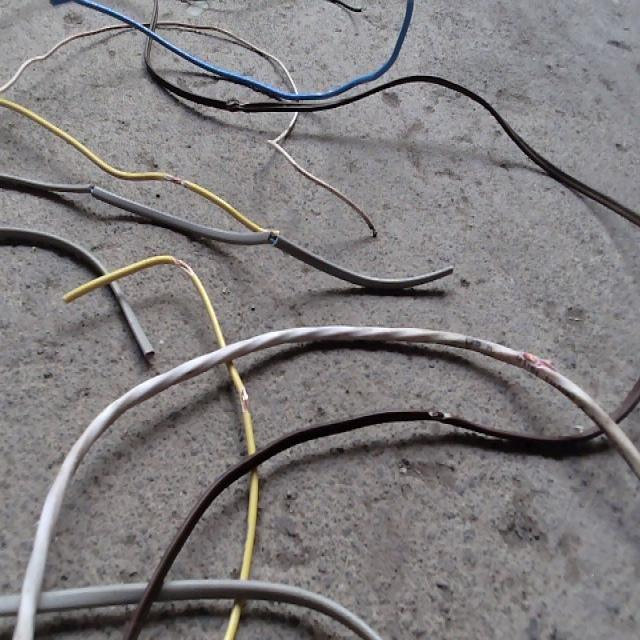-: (519, 349, 556, 376), (428, 408, 452, 424), (161, 170, 185, 186), (171, 255, 192, 272), (226, 95, 248, 109), (239, 384, 249, 412), (266, 231, 279, 244), (87, 181, 95, 195)
